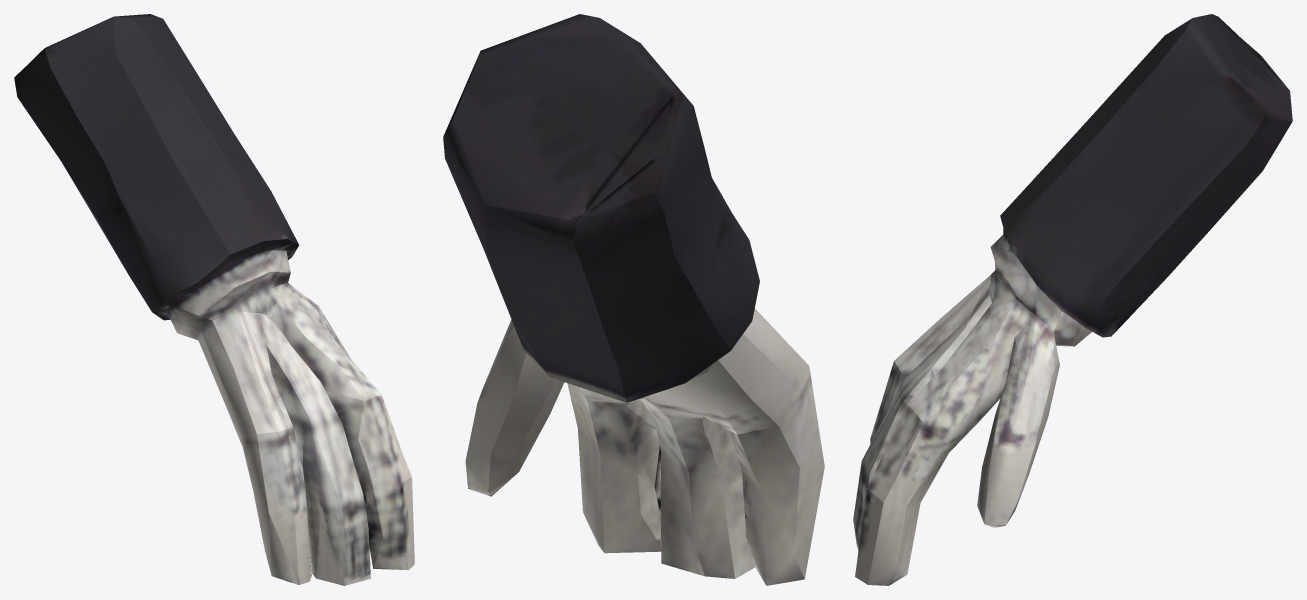
Rendered from codo-derecho-ca.obj.
3 renders of one model, left to right at view 1: azimuth 30°, elevation 25°; view 2: azimuth 150°, elevation 25°; view 3: azimuth 270°, elevation 25°, orthographic. The views are drawn at different scales.
Parts seen in each view (by area): view 1: model.057; view 2: model.057; view 3: model.057.
Part boxes in pixels (x1,y1,x2,y2): model.057: (14,14,414,585); model.057: (443,14,824,585); model.057: (853,14,1292,585).
Bounding box in the file's own units: 0.0418 × 0.0784 × 0.0633.
Materials: 1 (1 with a texture image).
